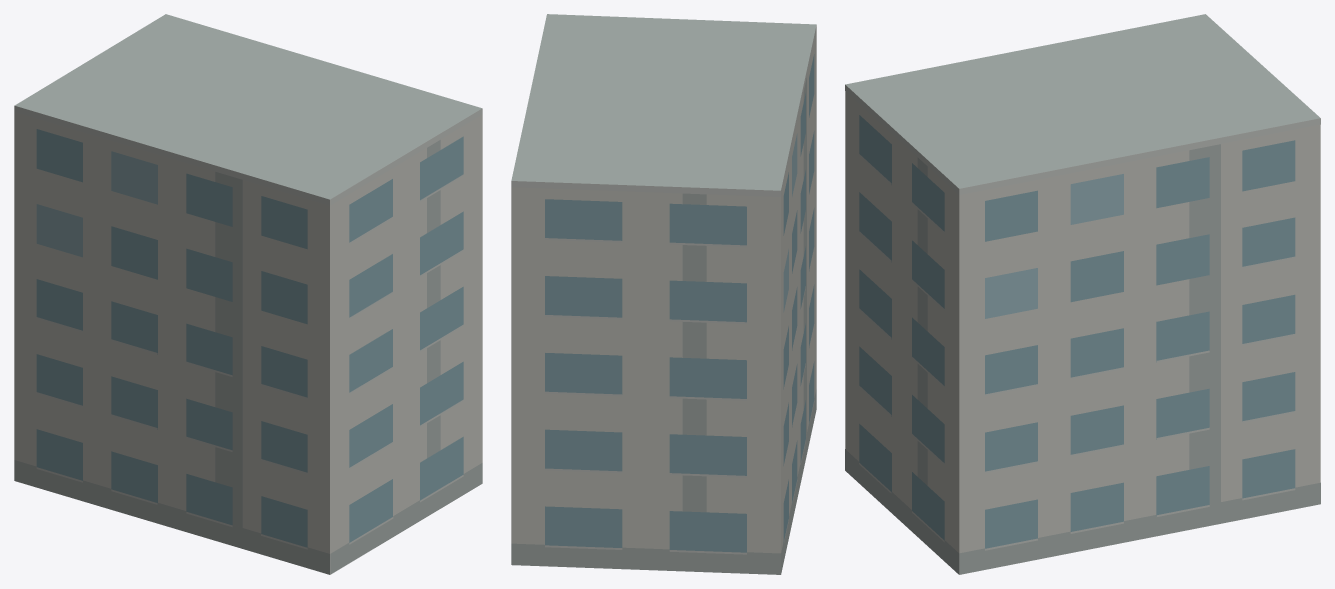
Rendered from survey-upis-33044343.glb.
3 views of the same model, side by side, from view 1: azimuth 30°, elevation 25°; view 2: azimuth 150°, elevation 25°; view 3: azimuth 270°, elevation 25° (orthographic). The views are drawn at different scales.
Parts seen in each view (by area): view 1: survey-upis-33044343.tmp; view 2: survey-upis-33044343.tmp; view 3: survey-upis-33044343.tmp.
Part boxes in pixels (left/top/right/bottom): survey-upis-33044343.tmp: left=14, top=14, right=482, bottom=574; survey-upis-33044343.tmp: left=511, top=14, right=816, bottom=574; survey-upis-33044343.tmp: left=845, top=14, right=1320, bottom=574.
Size of the model in its own units: 14.29 by 14.7 by 16.43.
